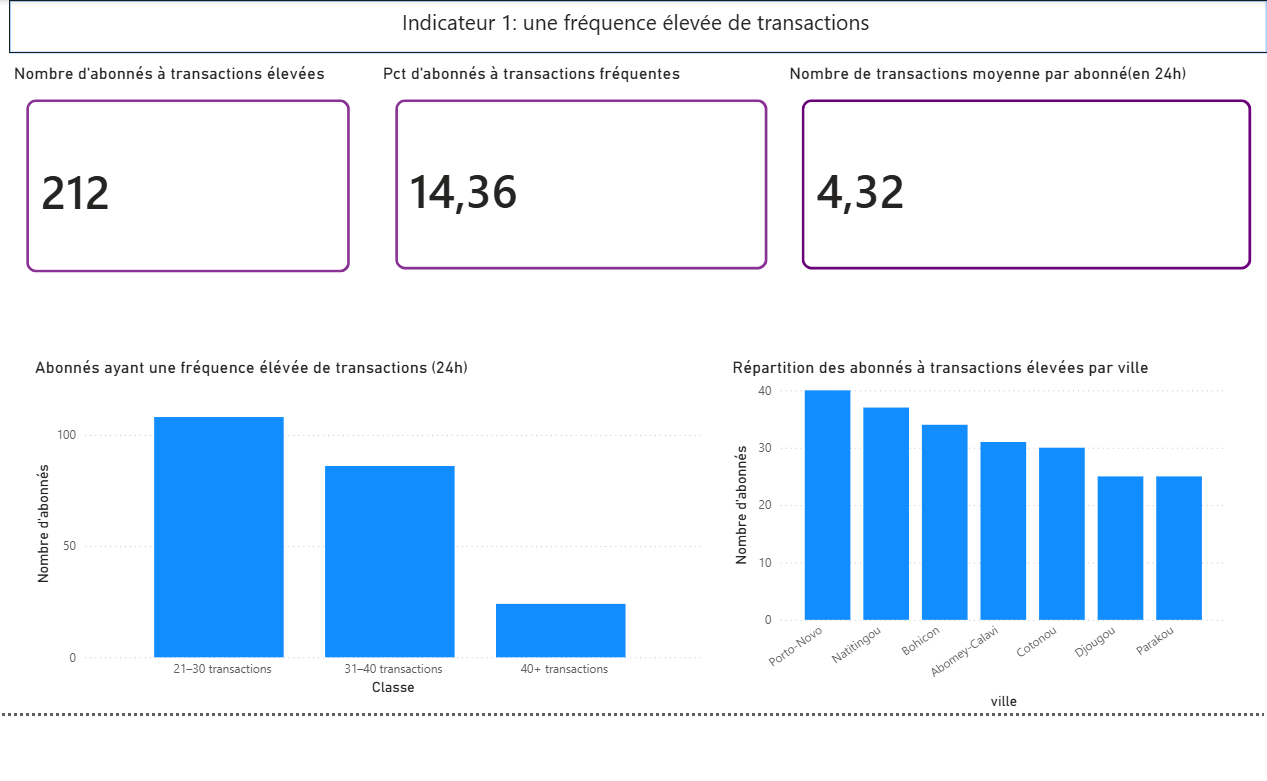

The dashboard page shown, as its layout file describes it:
{"tool":"powerbi","page":{"name":"Indicateur_1","canvas":[1280,720],"ordinal":2},"visuals":[{"type":"textbox","box":[9.5,0,1271.1,53.7],"z":0},{"type":"clusteredColumnChart","title":"Abonnés ayant une fréquence élévée de transactions (24h)","fields":{"Category":["dataset_fraude_benin.Classe_frequence"],"Y":["Count(dataset_fraude_benin.id_client)"]},"box":[30,360,682.1,345.8],"z":1000},{"type":"cardVisual","title":"Pct d''abonnés à transactions fréquentes","fields":{"Data":["dataset_fraude_benin.Pct_abonnes_20plus_transactions"]},"box":[381.6,63.6,410.3,225.6],"z":2000},{"type":"cardVisual","title":"Nombre d''abonnés à transactions élevées","fields":{"Data":["dataset_fraude_benin.Abonnés_20plus_transactions"]},"box":[9.1,63.6,361.9,228.6],"z":3000},{"type":"clusteredColumnChart","title":"Répartition des abonnés à transactions élevées par ville","fields":{"Y":["dataset_fraude_benin.Abonnés_20plus_transactions"],"Category":["dataset_fraude_benin.ville"]},"box":[734.2,360,508.4,360],"z":4000},{"type":"cardVisual","title":"Nombre de transactions moyenne par abonné(en 24h)","fields":{"Data":["dataset_fraude_benin.nombre_transactions_moy_par_client"]},"box":[792,64,488,226],"z":4001}]}

Visuals, with their boxes on the page's 1280x720 design canvas (x1, y1, x2, y2). These are canvas units, not pixel positions in the 1267x781 screenshot, which may show the page scaled, cropped or inside an application window:
textbox: 10, 0, 1281, 54
"Abonnés ayant une fréquence élévée de transactions (24h)" clusteredColumnChart: 30, 360, 712, 706
"Pct d''abonnés à transactions fréquentes" cardVisual: 382, 64, 792, 289
"Nombre d''abonnés à transactions élevées" cardVisual: 9, 64, 371, 292
"Répartition des abonnés à transactions élevées par ville" clusteredColumnChart: 734, 360, 1243, 720
"Nombre de transactions moyenne par abonné(en 24h)" cardVisual: 792, 64, 1280, 290
